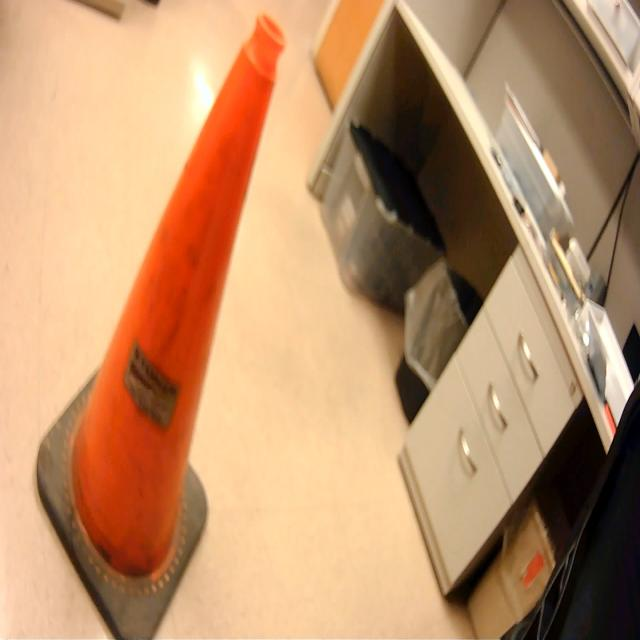traffic cone: (35, 12, 292, 640)
